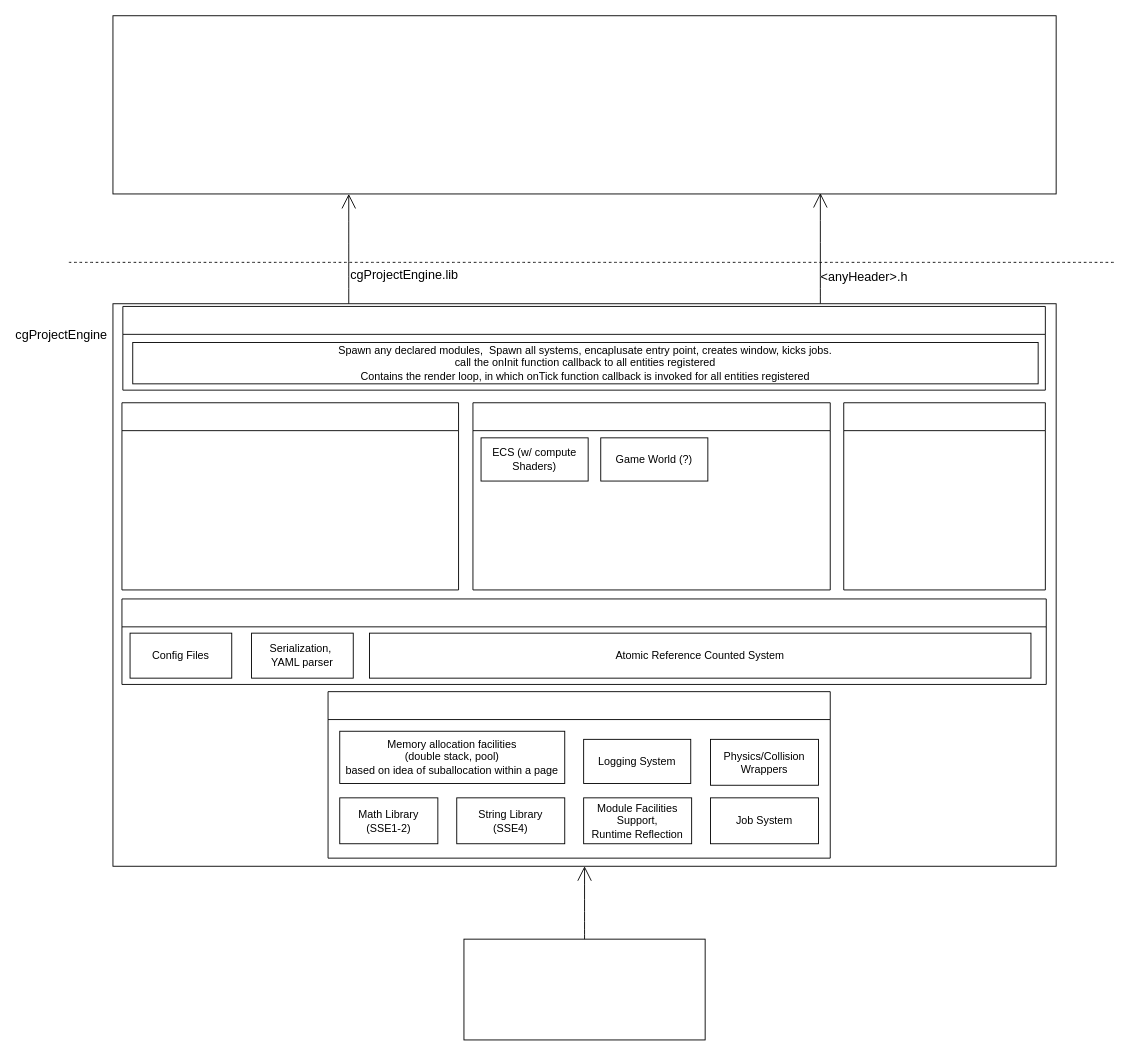
This 1132x1056 diagram has some shape labels left out. Each missing label, with the box of its shape:
Audio: (843, 402, 1045, 590)
Core: (327, 691, 830, 858)
Gameplay/Physics: (472, 402, 830, 590)
Launch: (122, 306, 1045, 390)
OS, 3rd Party, CPU Arch. (x86_64 v4), C++ Standard Library, ...: (463, 938, 705, 1040)
Renderer: (121, 402, 459, 590)
Resource Manager: (121, 598, 1046, 684)
